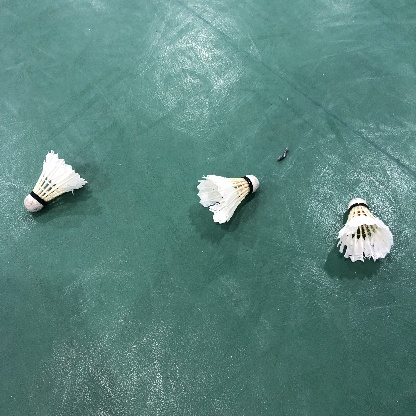ball_single: (24, 150, 87, 212), (337, 198, 393, 262), (197, 174, 259, 224)
